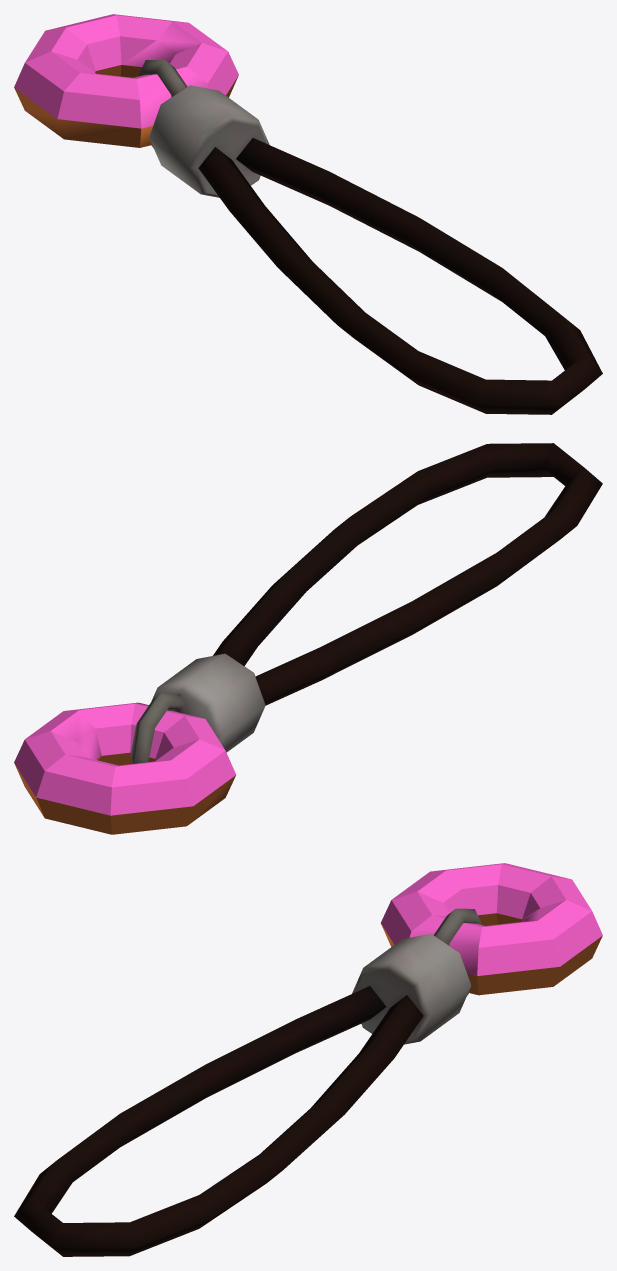
The model's file is Donut_Charm.fbx.
The picture shows the model from 3 angles, top to bottom: view 1: azimuth 30°, elevation 25°; view 2: azimuth 150°, elevation 25°; view 3: azimuth 330°, elevation 25°; orthographic projection.
Parts seen in each view (by area): view 1: SubMesh_0.001; view 2: SubMesh_0.001; view 3: SubMesh_0.001.
Boxes of the visible parts, <box> form: SubMesh_0.001: <box>14,14,602,414</box>; SubMesh_0.001: <box>14,443,602,834</box>; SubMesh_0.001: <box>14,863,602,1256</box>.
Size of the model in its own units: 22.17 by 11.58 by 104.
1 material, 1 textured.
